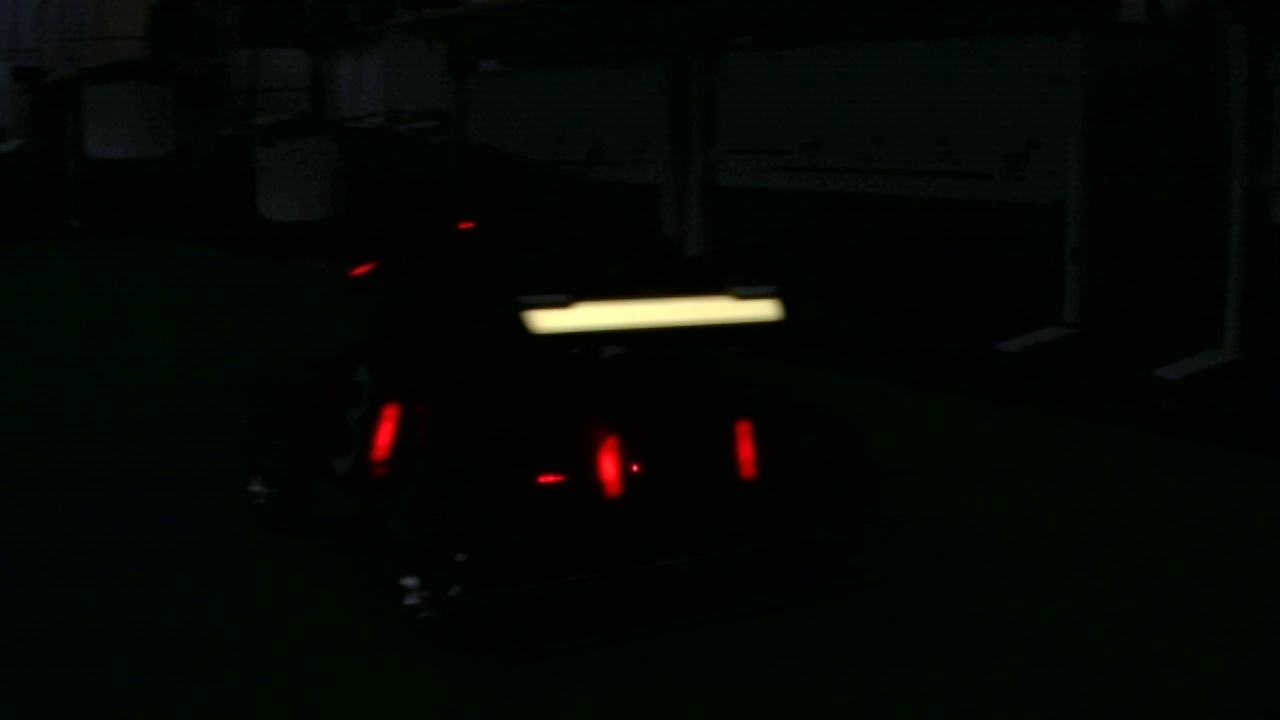lamp: (373, 401, 401, 466), (596, 434, 625, 496), (734, 420, 758, 480)
notpair1: (366, 395, 626, 507)
pair1: (595, 421, 756, 507)
